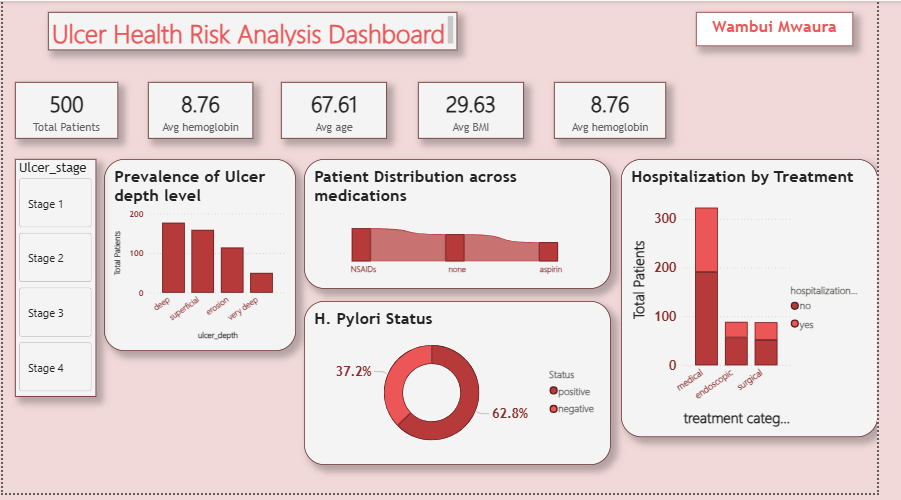

Layout of this report page (visuals, bound fields, positions):
{"tool":"powerbi","page":{"name":"Clinical & Treatment","canvas":[1280,720],"ordinal":2},"visuals":[{"type":"clusteredColumnChart","title":"Prevalence of Ulcer  depth level","fields":{"Category":["ulcer_cleaned_data.ulcer_depth"],"Y":["CountNonNull(ulcer_cleaned_data.patient_id)"]},"box":[147.8,231.8,280.5,280.5],"z":0},{"type":"card","fields":{"Values":["CountNonNull(ulcer_cleaned_data.patient_id)"]},"box":[17.6,118.5,150.7,83.4],"z":1000},{"type":"card","fields":{"Values":["Avg(ulcer_cleaned_data.age)"]},"box":[406.8,118.5,155.1,83.4],"z":2000},{"type":"card","fields":{"Values":["Avg(ulcer_cleaned_data.bmi)"]},"box":[607.3,118.5,155.1,83.4],"z":3000},{"type":"card","fields":{"Values":["Avg(ulcer_cleaned_data.hemoglobin_g_dl)"]},"box":[806.3,118.5,163.9,83.4],"z":4000},{"type":"card","fields":{"Values":["Avg(ulcer_cleaned_data.hemoglobin_g_dl)"]},"box":[212.2,118.5,153.7,83.4],"z":5000},{"type":"advancedSlicerVisual","fields":{"Values":["Ulcer Image Dataset.Ulcer_stage"]},"box":[17.6,231.2,118.5,348.3],"z":6000},{"type":"textbox","box":[65.9,16.1,598.5,55.6],"z":7000},{"type":"columnChart","title":"Patient Distribution across medications","fields":{"Category":["ulcer_cleaned_data.med_type"],"Y":["CountNonNull(ulcer_cleaned_data.patient_id)"]},"box":[440.1,231.8,448.5,189.8],"z":8000},{"type":"donutChart","title":"H. Pylori Status","fields":{"Category":["ulcer_cleaned_data.h_pylori_status"],"Y":["CountNonNull(ulcer_cleaned_data.patient_id)"]},"box":[440.1,438.4,448.5,240.2],"z":9000},{"type":"columnChart","title":"Hospitalization by Treatment","fields":{"Category":["ulcer_cleaned_data.treatment_category"],"Y":["CountNonNull(ulcer_cleaned_data.patient_id)"],"Series":["ulcer_cleaned_data.hospitalization_required"]},"box":[904.4,231.2,376.1,406.8],"z":10000},{"type":"textbox","box":[1014.1,16.1,229.8,49.8],"z":10001}]}

Visuals, with their boxes in screenshot pixels (x1, y1, x2, y2), scaled from the page's 1280x720 canvas onto the 901x500 screenshot:
"Prevalence of Ulcer  depth level" clusteredColumnChart: rect(104, 161, 301, 356)
card - CountNonNull(ulcer_cleaned_data.patient_id): rect(12, 82, 118, 140)
card - Avg(ulcer_cleaned_data.age): rect(286, 82, 396, 140)
card - Avg(ulcer_cleaned_data.bmi): rect(427, 82, 537, 140)
card - Avg(ulcer_cleaned_data.hemoglobin_g_dl): rect(568, 82, 683, 140)
card - Avg(ulcer_cleaned_data.hemoglobin_g_dl): rect(149, 82, 258, 140)
advancedSlicerVisual - Ulcer Image Dataset.Ulcer_stage: rect(12, 161, 96, 402)
textbox: rect(46, 11, 468, 50)
"Patient Distribution across medications" columnChart: rect(310, 161, 625, 293)
"H. Pylori Status" donutChart: rect(310, 304, 625, 471)
"Hospitalization by Treatment" columnChart: rect(637, 161, 900, 443)
textbox: rect(714, 11, 876, 46)
